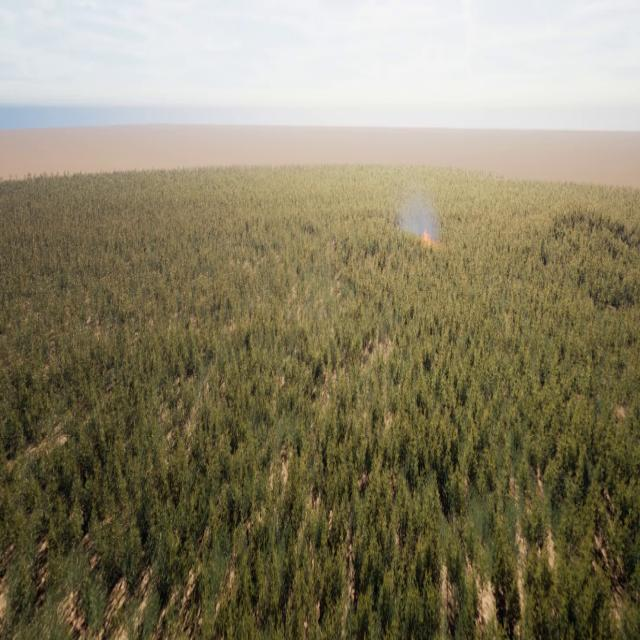fire: (421, 225, 434, 244)
smoke: (398, 184, 442, 256)
